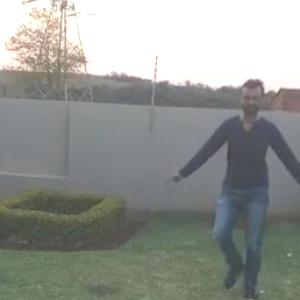land: (191, 88, 299, 262)
